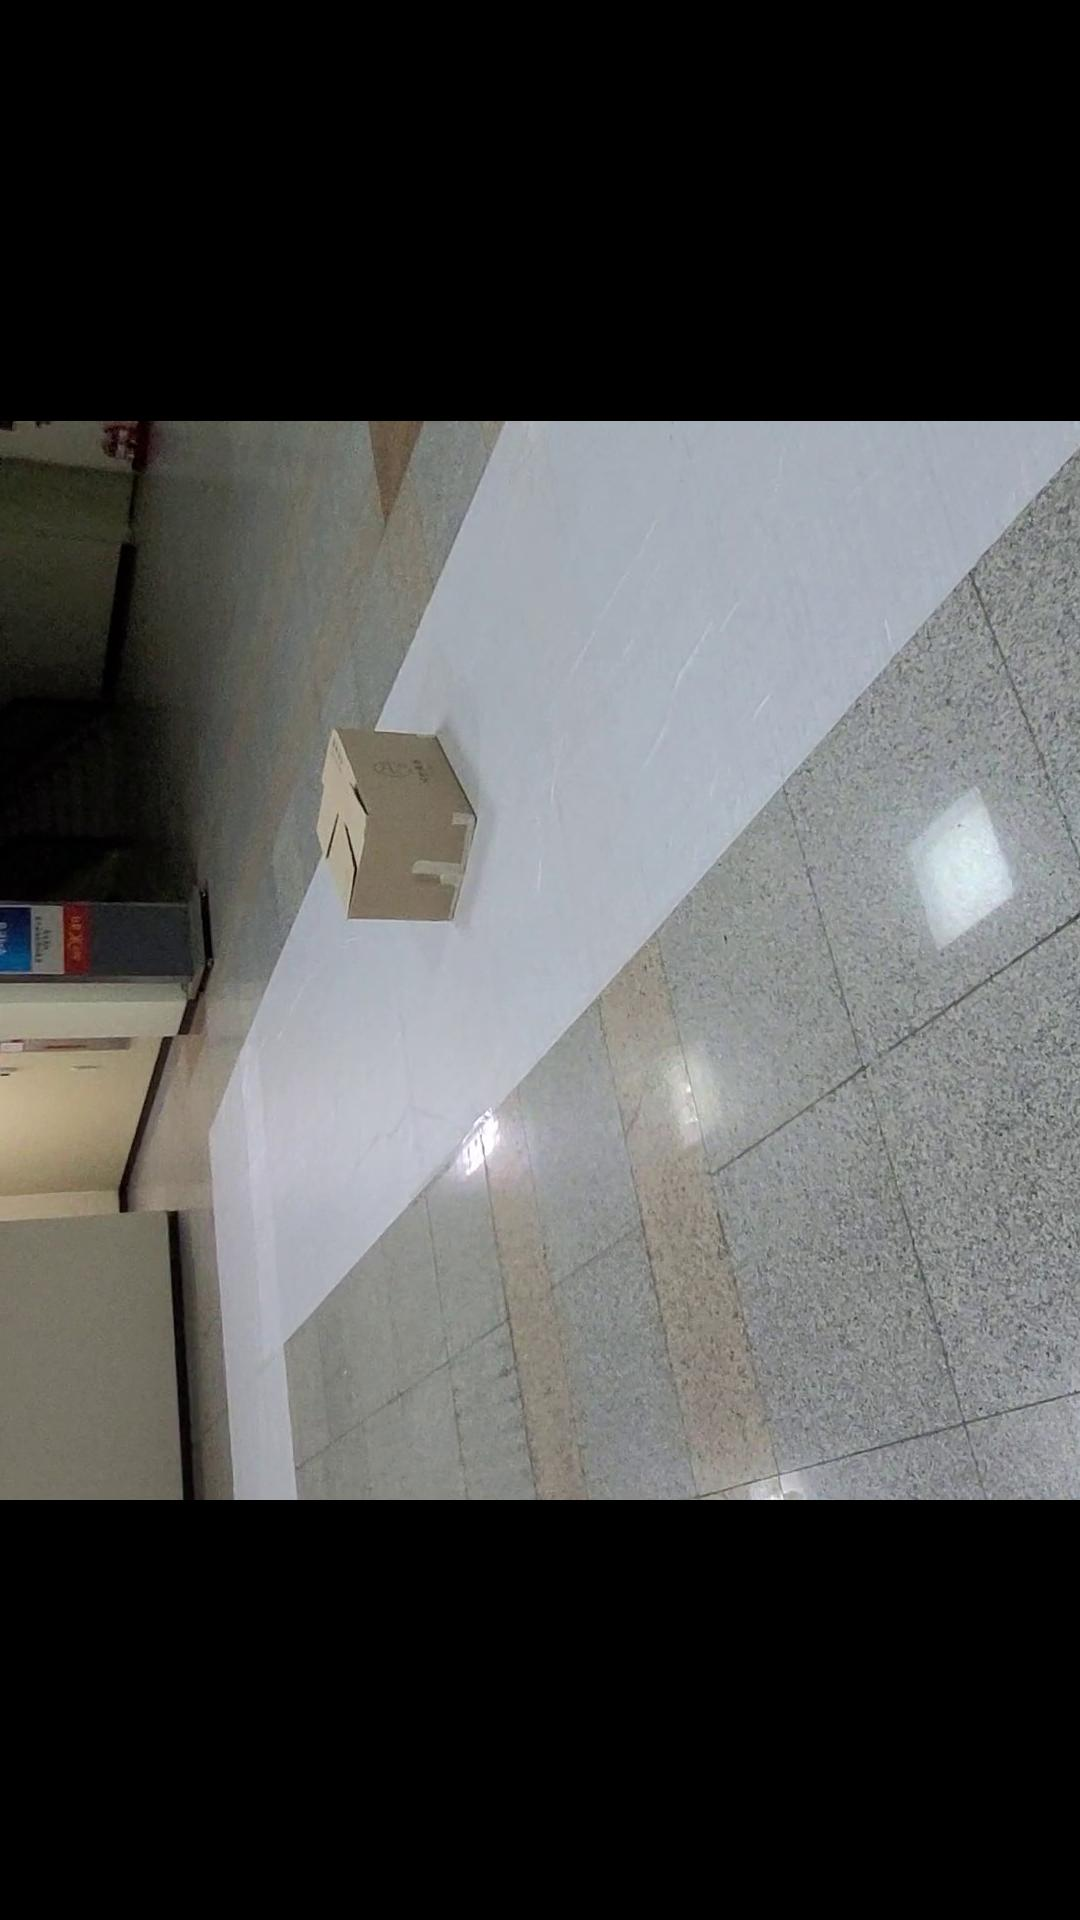Box: (284, 700, 520, 953)
